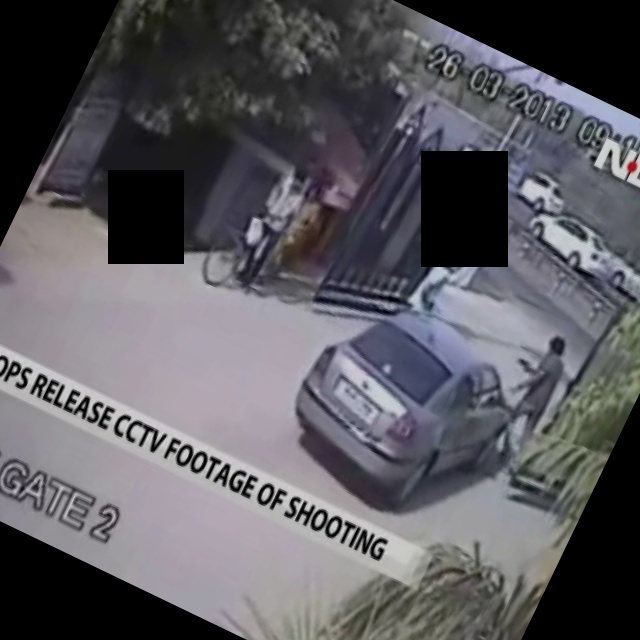gun: (509, 348, 539, 376)
